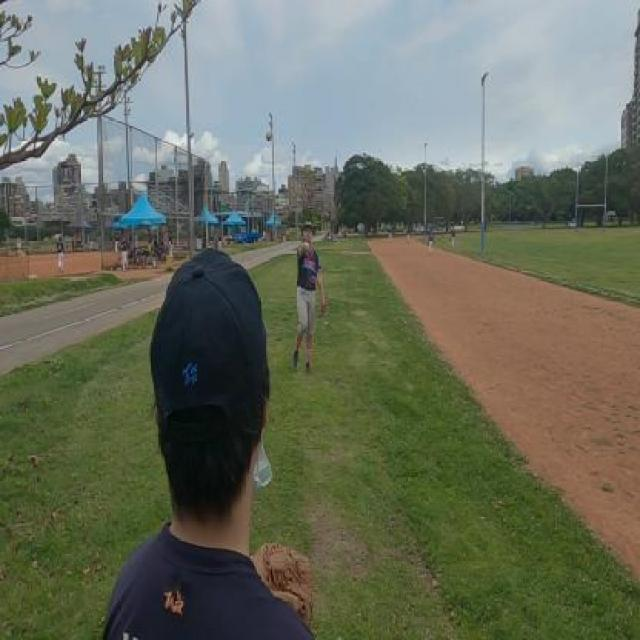baseball: (266, 130, 272, 141)
